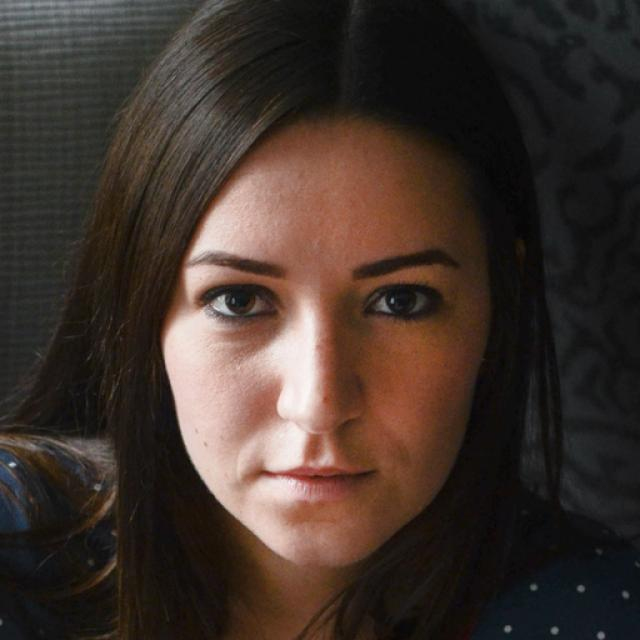neutral: (162, 115, 488, 568)
